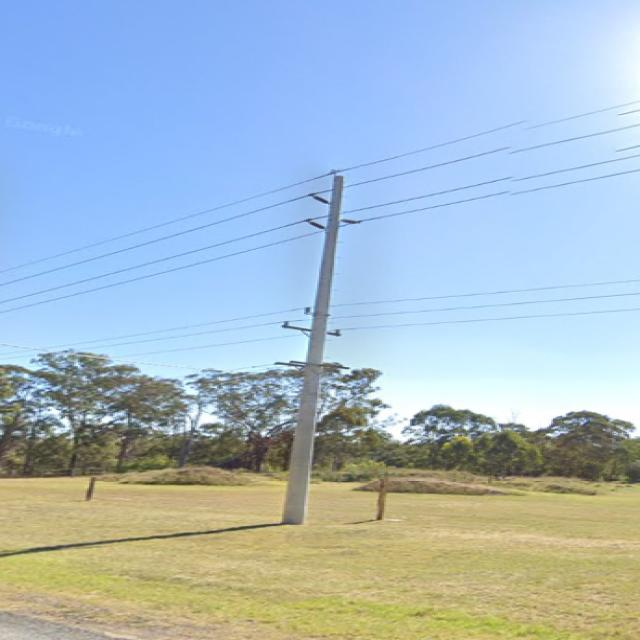HV-transmission: (302, 170, 360, 232), (282, 308, 341, 337)
crossarm: (282, 325, 341, 336), (273, 362, 334, 371), (287, 360, 347, 369)
timber-pole: (278, 175, 343, 523)
